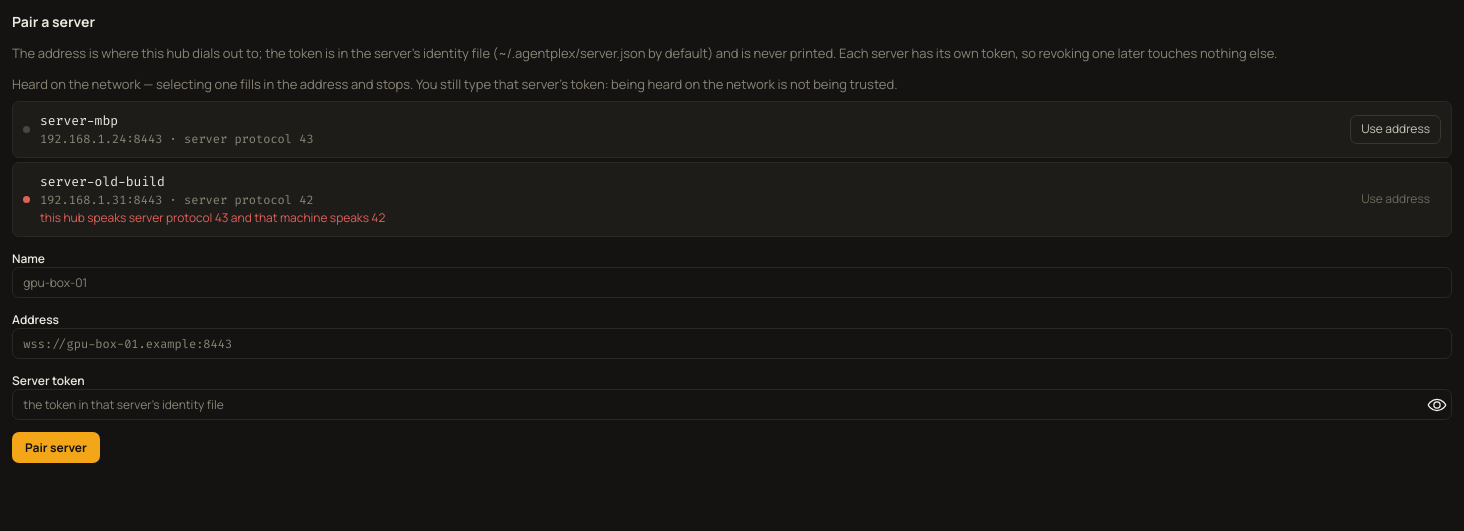
Scenario: the pairing panel › refuses an empty form in its own fields, and sends nothing
The image size is (1464, 531).
Click the button "Pair server". click: (56, 448)
box: [12,432,100,463]
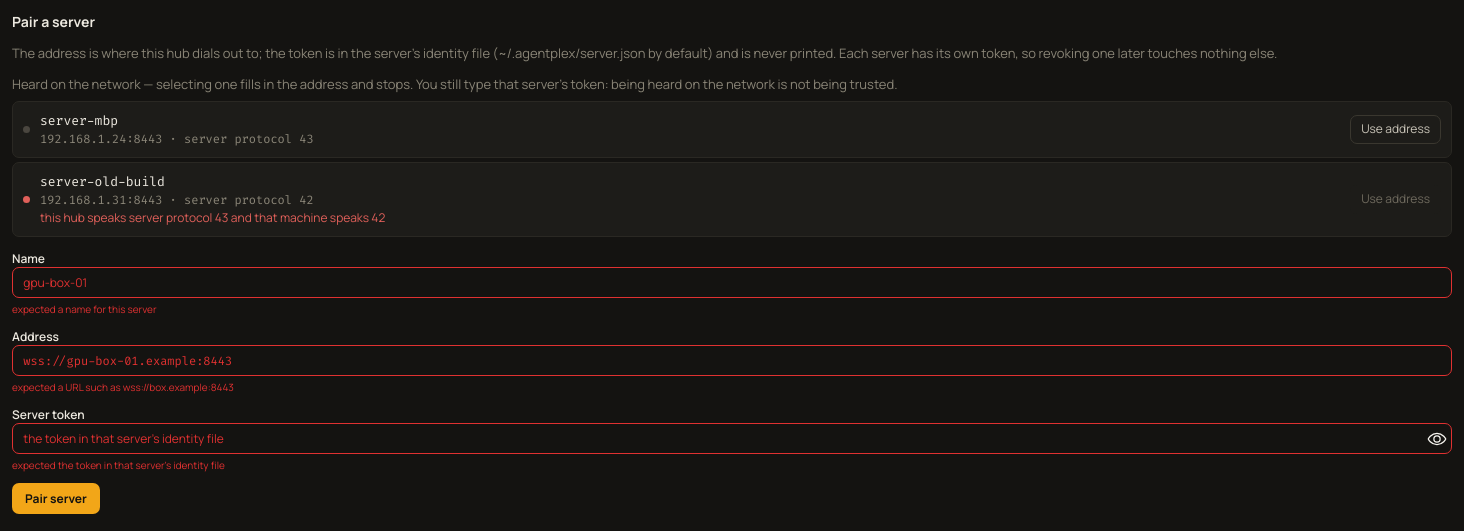
Check: the text "expected a name for this server" is shown, box [12,302,157,316]
Check: the text "expected the token in that server's identity file" is shown, box [12,458,225,472]
